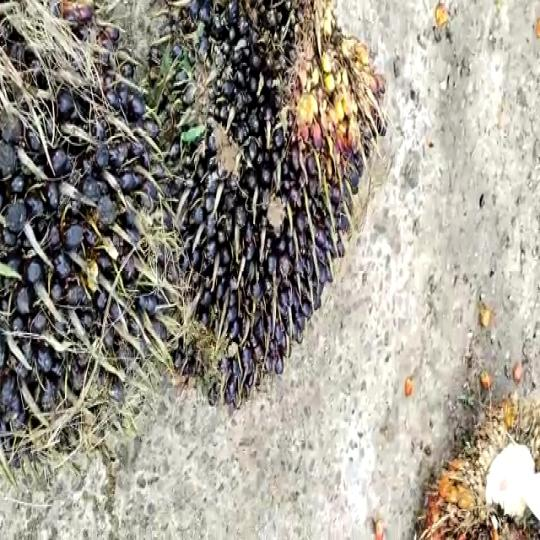mentah: (143, 0, 396, 414), (0, 1, 158, 465)
